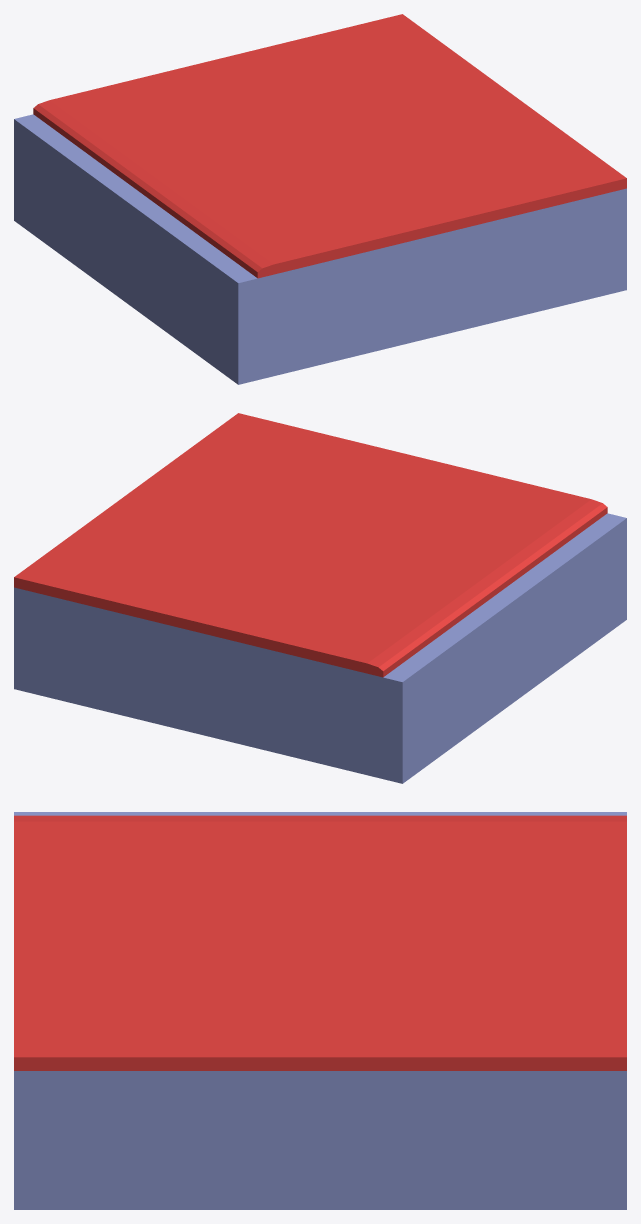
Rendered from tileWholeSide.fbx.
The picture shows the model from 3 angles, top to bottom: view 1: azimuth 30°, elevation 25°; view 2: azimuth 150°, elevation 25°; view 3: azimuth 270°, elevation 25°; orthographic projection. The views are drawn at different scales.
Parts seen in each view (by area): view 1: tileWholeSide; view 2: tileWholeSide; view 3: tileWholeSide.
Part boxes in pixels (x1,y1,x2,y2): tileWholeSide: (14, 14, 626, 384); tileWholeSide: (14, 413, 626, 783); tileWholeSide: (14, 812, 626, 1209).
Bounding box in the file's own units: 400 × 110 × 400.
